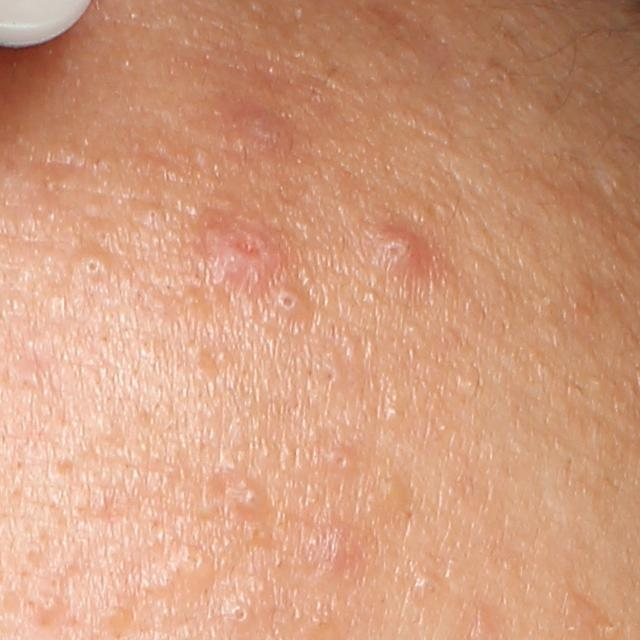comedo: (176, 539, 217, 589), (408, 571, 442, 608), (75, 245, 111, 279), (242, 478, 270, 518), (324, 444, 359, 475), (223, 598, 251, 632), (378, 398, 406, 429), (33, 591, 62, 620), (273, 288, 304, 315), (379, 474, 407, 503), (212, 343, 235, 366)
papule: (194, 196, 276, 289), (366, 217, 437, 276), (241, 109, 290, 147)
